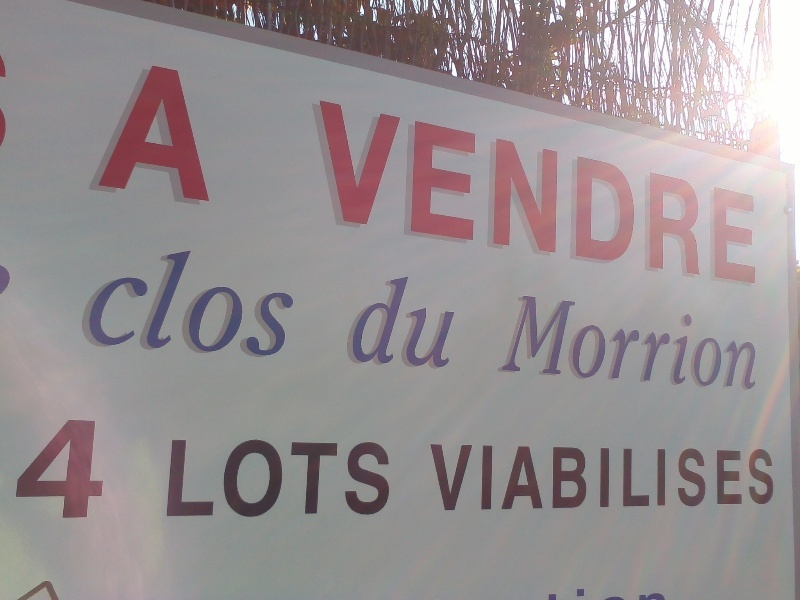text: (321, 93, 336, 289), (337, 93, 352, 289), (353, 93, 368, 289), (369, 93, 384, 289), (385, 93, 400, 289), (401, 93, 416, 289), (417, 93, 432, 289), (433, 93, 448, 289), (449, 93, 464, 289), (465, 93, 480, 289), (481, 93, 496, 289), (497, 93, 512, 289), (513, 93, 528, 289), (529, 93, 544, 289), (545, 93, 560, 289), (561, 93, 576, 289), (577, 93, 592, 289), (593, 93, 608, 289), (609, 93, 624, 289), (625, 93, 640, 289), (641, 93, 656, 289), (657, 93, 672, 289), (673, 93, 688, 289), (689, 93, 704, 289), (705, 93, 720, 289), (721, 93, 736, 289), (737, 93, 752, 289), (753, 93, 764, 289), (161, 63, 176, 204), (177, 63, 192, 204), (193, 63, 208, 204), (113, 234, 128, 366), (129, 234, 144, 366), (145, 234, 160, 366), (161, 234, 176, 366), (177, 234, 192, 366), (193, 234, 208, 366), (209, 234, 224, 366), (225, 234, 240, 366), (241, 234, 256, 366), (257, 234, 272, 366), (273, 234, 288, 366), (289, 234, 304, 366), (310, 93, 320, 289), (147, 63, 160, 204), (369, 264, 384, 379), (385, 264, 400, 379), (401, 264, 416, 379), (417, 264, 432, 379), (433, 264, 448, 379), (449, 264, 464, 379), (33, 415, 48, 522), (49, 415, 64, 522), (65, 415, 80, 522), (81, 415, 96, 522), (97, 415, 112, 522), (100, 234, 112, 366), (529, 291, 544, 396), (545, 291, 560, 396), (561, 291, 576, 396), (577, 291, 592, 396), (593, 291, 608, 396), (609, 291, 624, 396), (625, 291, 640, 396), (641, 291, 656, 396), (657, 291, 672, 396), (673, 291, 688, 396), (689, 291, 704, 396), (705, 291, 720, 396), (721, 291, 736, 396), (737, 291, 752, 396), (753, 291, 768, 396), (177, 434, 192, 520), (193, 434, 208, 520), (209, 434, 224, 520), (225, 434, 240, 520), (241, 434, 256, 520), (257, 434, 272, 520), (273, 434, 288, 520), (289, 434, 304, 520), (305, 434, 320, 520), (321, 434, 336, 520), (337, 434, 352, 520), (353, 434, 368, 520), (369, 434, 384, 520), (20, 415, 32, 522), (516, 291, 528, 396), (433, 442, 448, 515), (449, 442, 464, 515), (465, 442, 480, 515), (481, 442, 496, 515), (497, 442, 512, 515), (513, 442, 528, 515), (529, 442, 544, 515), (545, 442, 560, 515), (561, 442, 576, 515), (577, 442, 592, 515), (593, 442, 608, 515), (609, 442, 624, 515), (625, 442, 640, 515), (641, 442, 656, 515), (657, 442, 672, 515), (673, 442, 688, 515), (689, 442, 704, 515), (705, 442, 720, 515), (721, 442, 736, 515), (737, 442, 752, 515), (753, 442, 768, 515), (769, 442, 782, 515), (168, 434, 176, 520), (113, 415, 119, 522), (385, 434, 392, 520), (465, 264, 470, 379), (365, 264, 368, 379), (429, 442, 432, 515), (209, 63, 210, 204), (305, 234, 306, 366), (769, 291, 770, 396)
